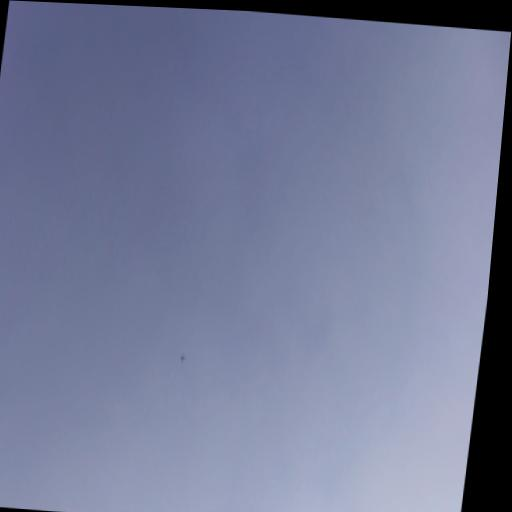drones: (176, 352, 188, 364)
